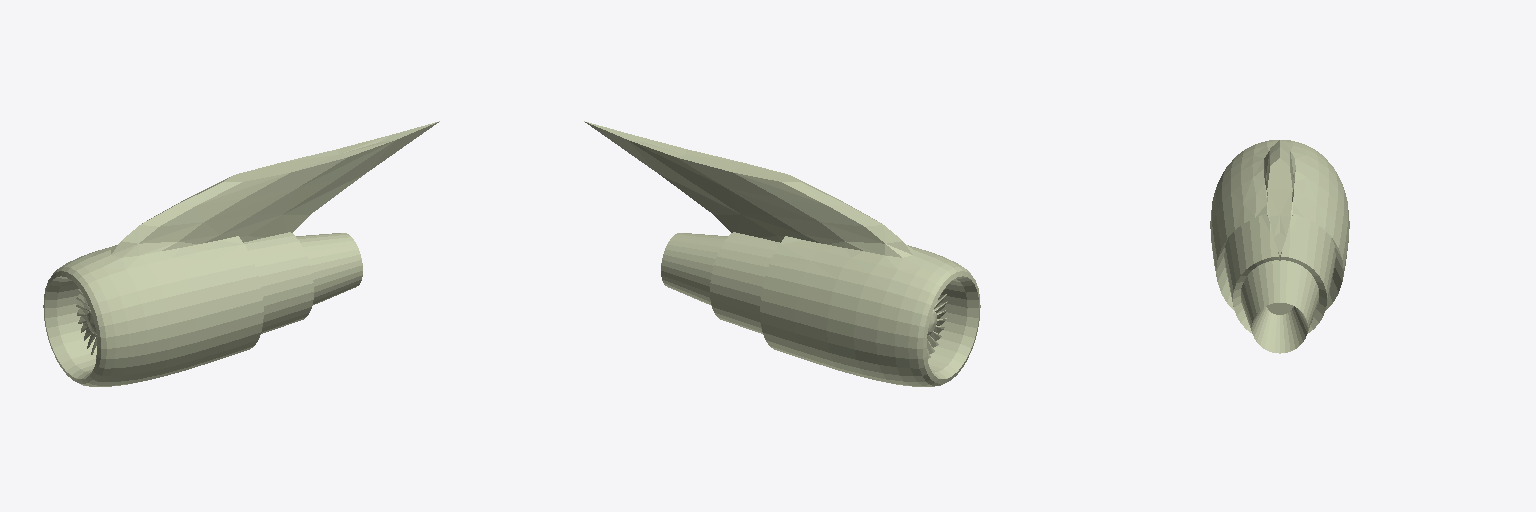
The model's file is engine.obj.
3 views of the same model, side by side, from view 1: azimuth 30°, elevation 25°; view 2: azimuth 150°, elevation 25°; view 3: azimuth 270°, elevation 25° (orthographic).
Visible parts, largest first — view 1: cylinder2; view 2: cylinder2; view 3: cylinder2.
Boxes of the visible parts, <box> form: cylinder2: <box>43,121,439,386</box>; cylinder2: <box>584,121,980,386</box>; cylinder2: <box>1210,140,1349,353</box>.
Bounding box in the file's own units: 1.81 × 0.8422 × 0.5917.